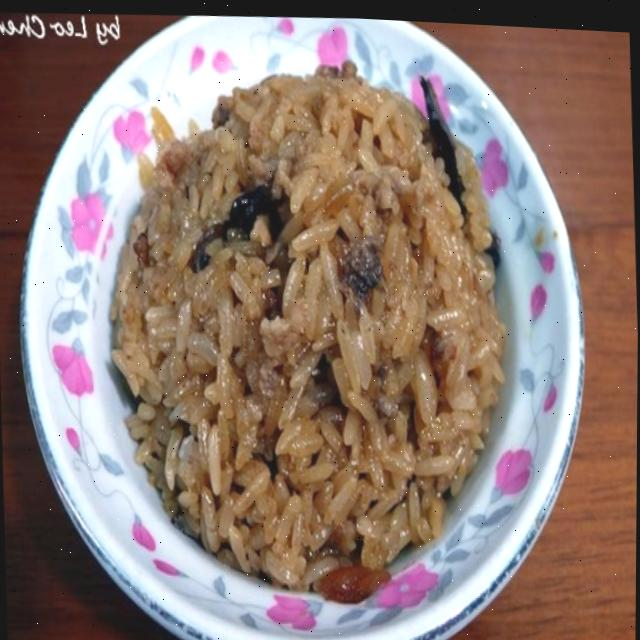米饭主食: (14, 1, 606, 640)
